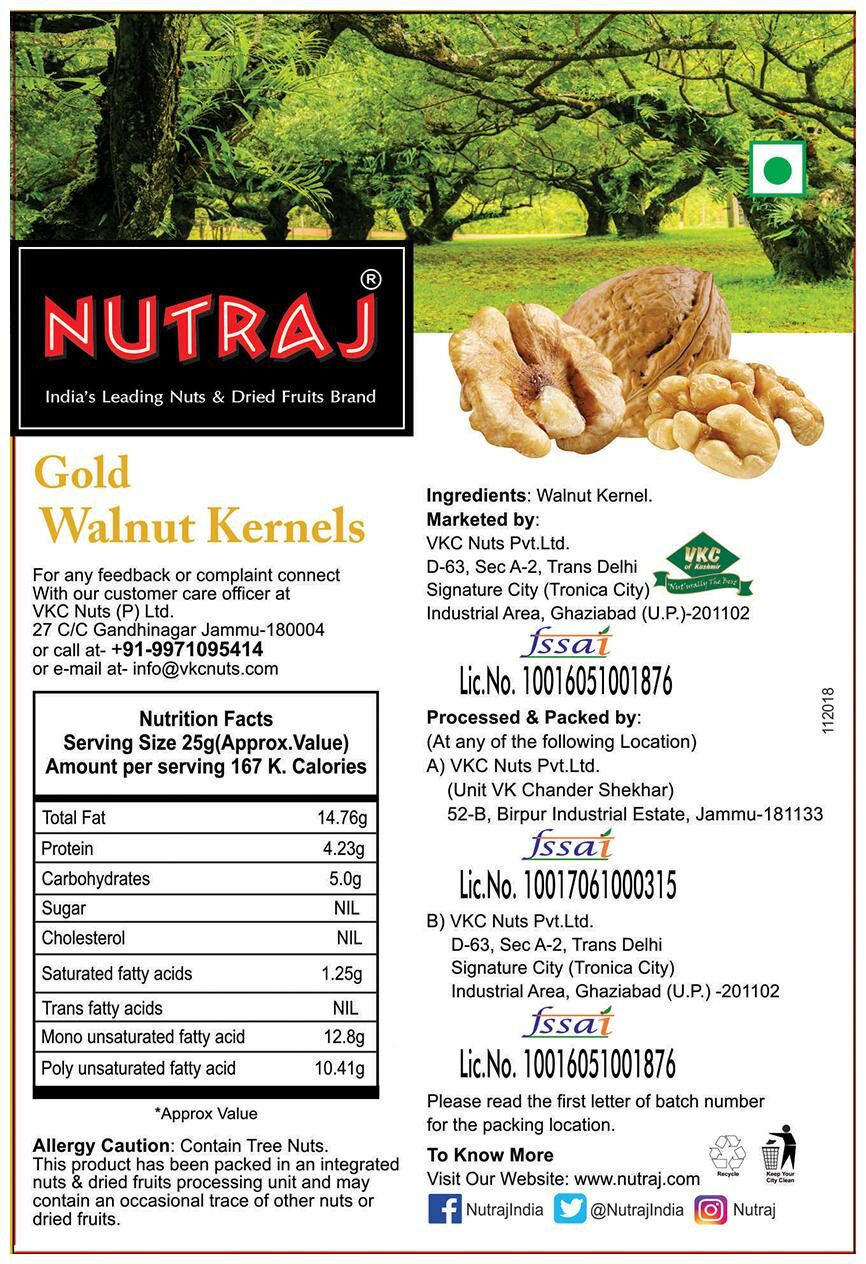fssai: (517, 624, 612, 659), (520, 828, 613, 862), (519, 1005, 613, 1036)
